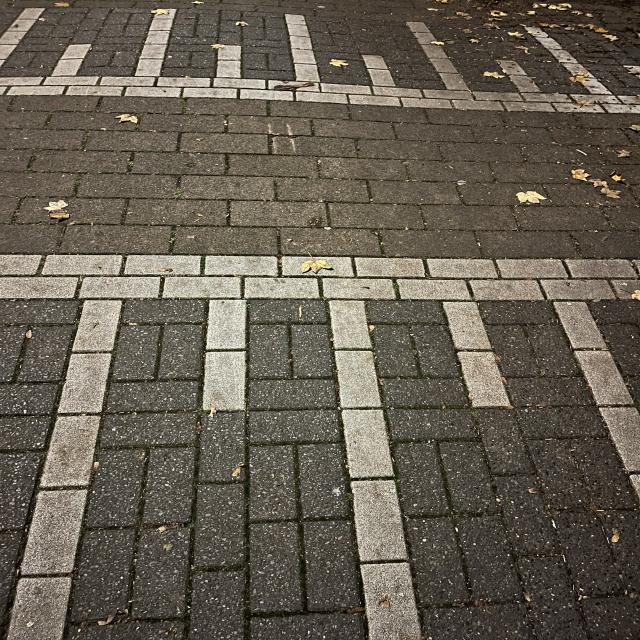leaves: (564, 162, 634, 202), (31, 195, 76, 225), (109, 107, 143, 131), (148, 0, 174, 29), (516, 187, 546, 211), (482, 66, 508, 91), (487, 13, 538, 24), (572, 64, 588, 90), (324, 58, 347, 74), (232, 16, 248, 32)
pavement: (1, 232, 640, 634), (164, 89, 556, 239), (0, 54, 272, 91), (0, 93, 102, 179), (264, 10, 472, 50), (4, 4, 140, 58)
